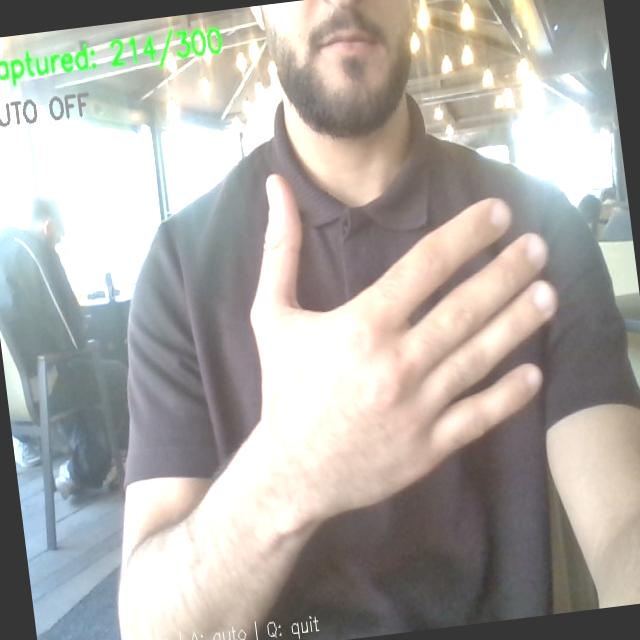Hand: (251, 176, 556, 519)
